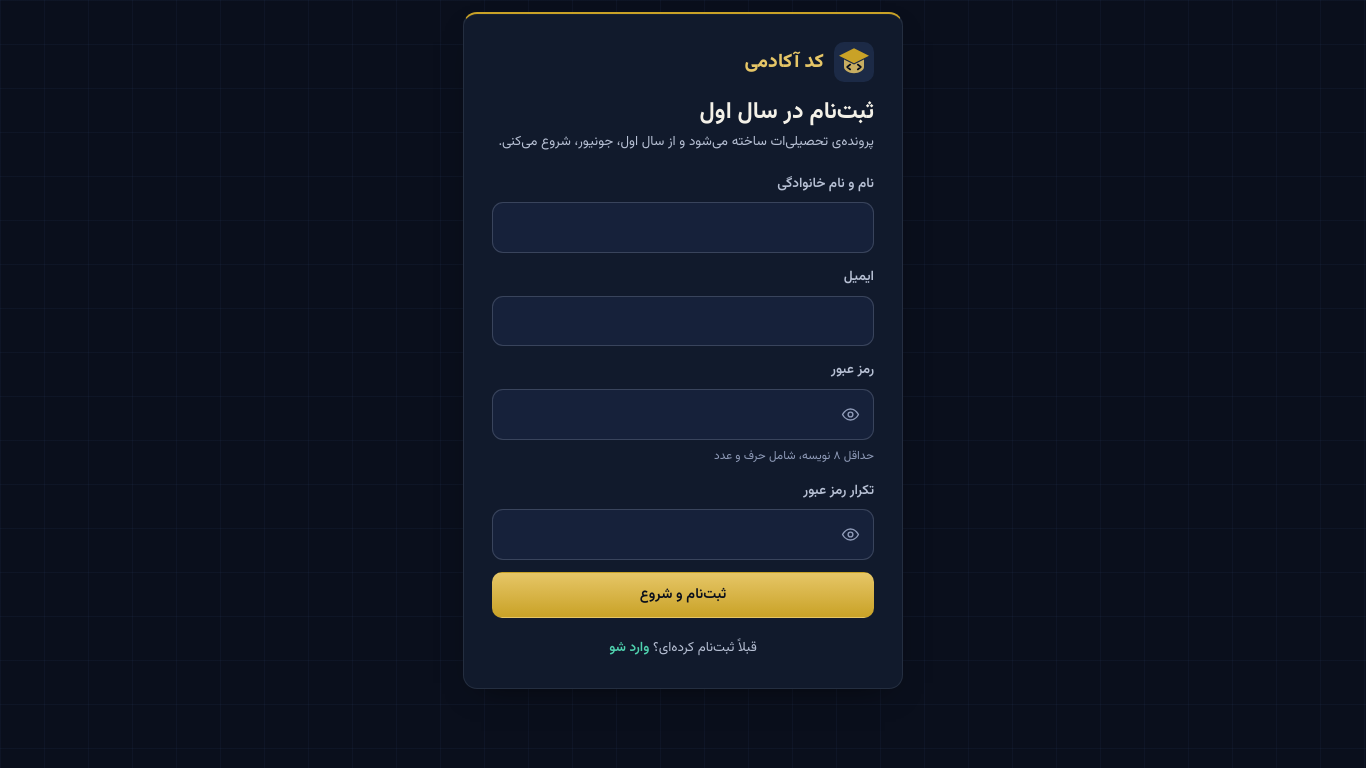
it: Authentication › validates matching passwords before registering
Step 1. Type "سارا محمدی" into the field labelled "نام و نام خانوادگی" → (683, 228), box [492, 202, 874, 253]
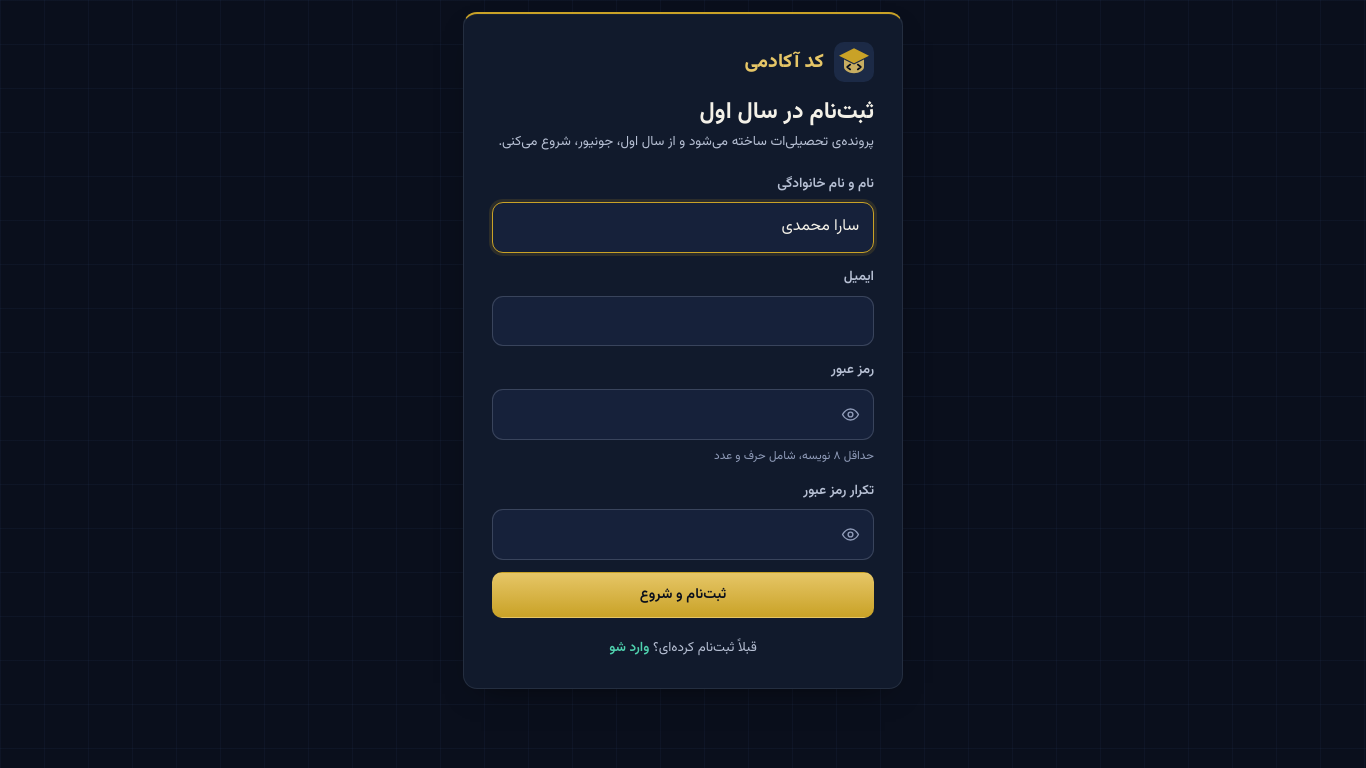
Step 2. Type "sara@example.ir" into the field labelled "ایمیل" → (683, 321), box [492, 296, 874, 346]
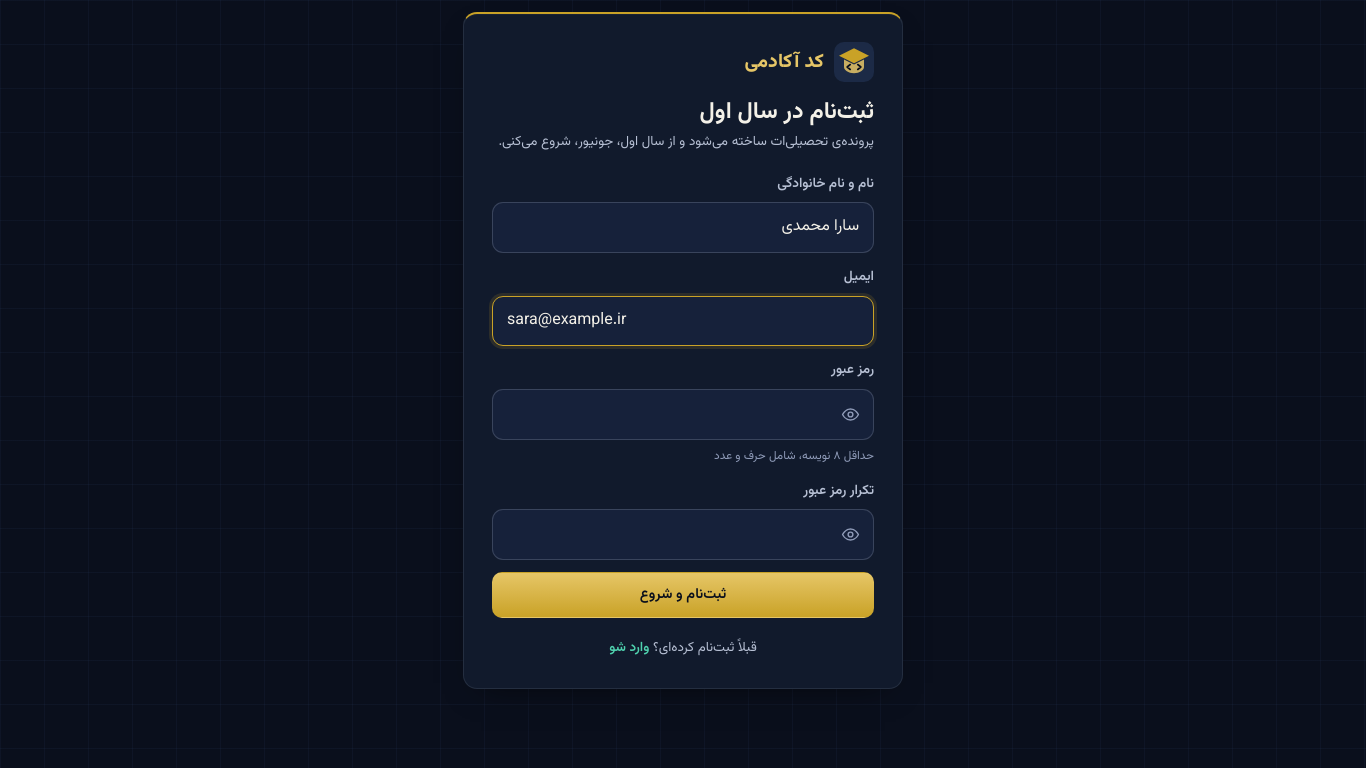
Step 3. Type "tehran1405" into the password field labelled "رمز عبور" → (683, 414), box [492, 389, 874, 440]
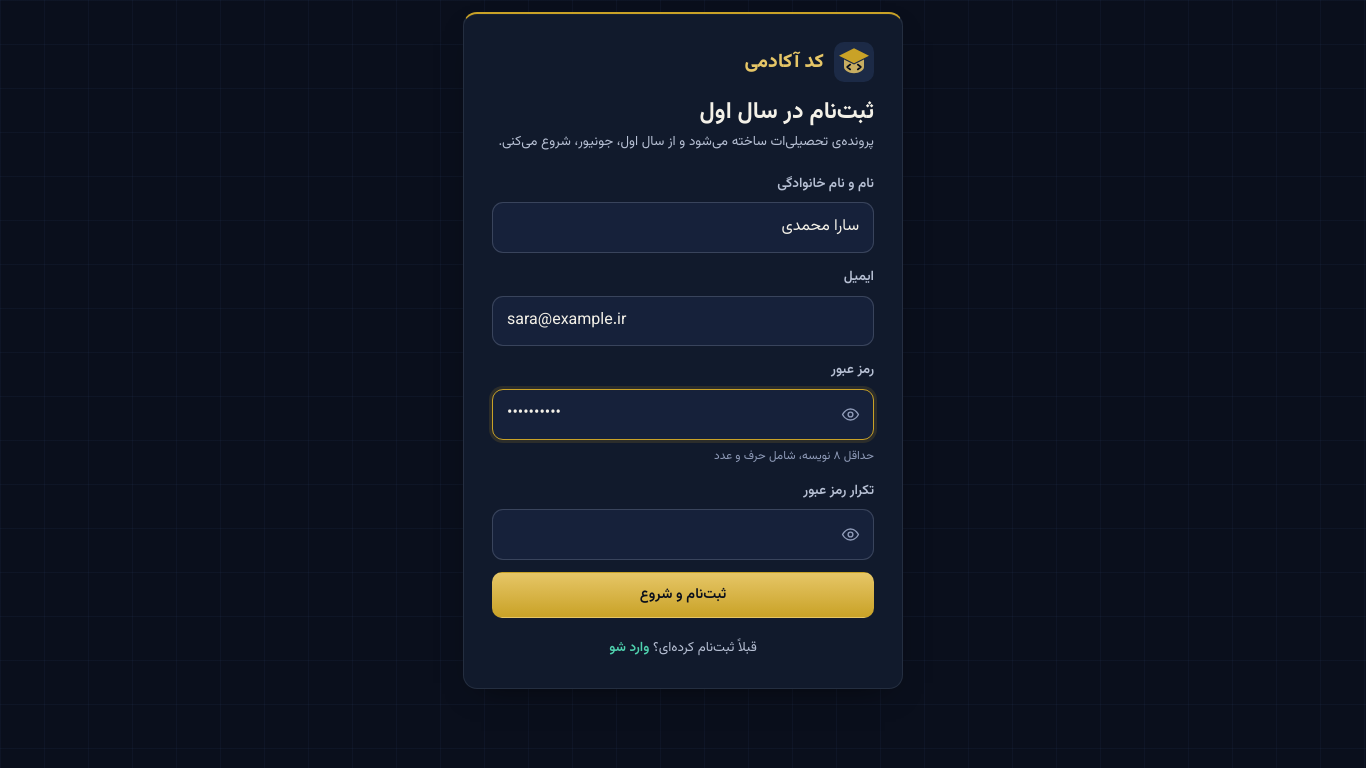
Step 4. Type "tehran1406" into the password field labelled "تکرار رمز عبور" → (683, 535), box [492, 509, 874, 560]
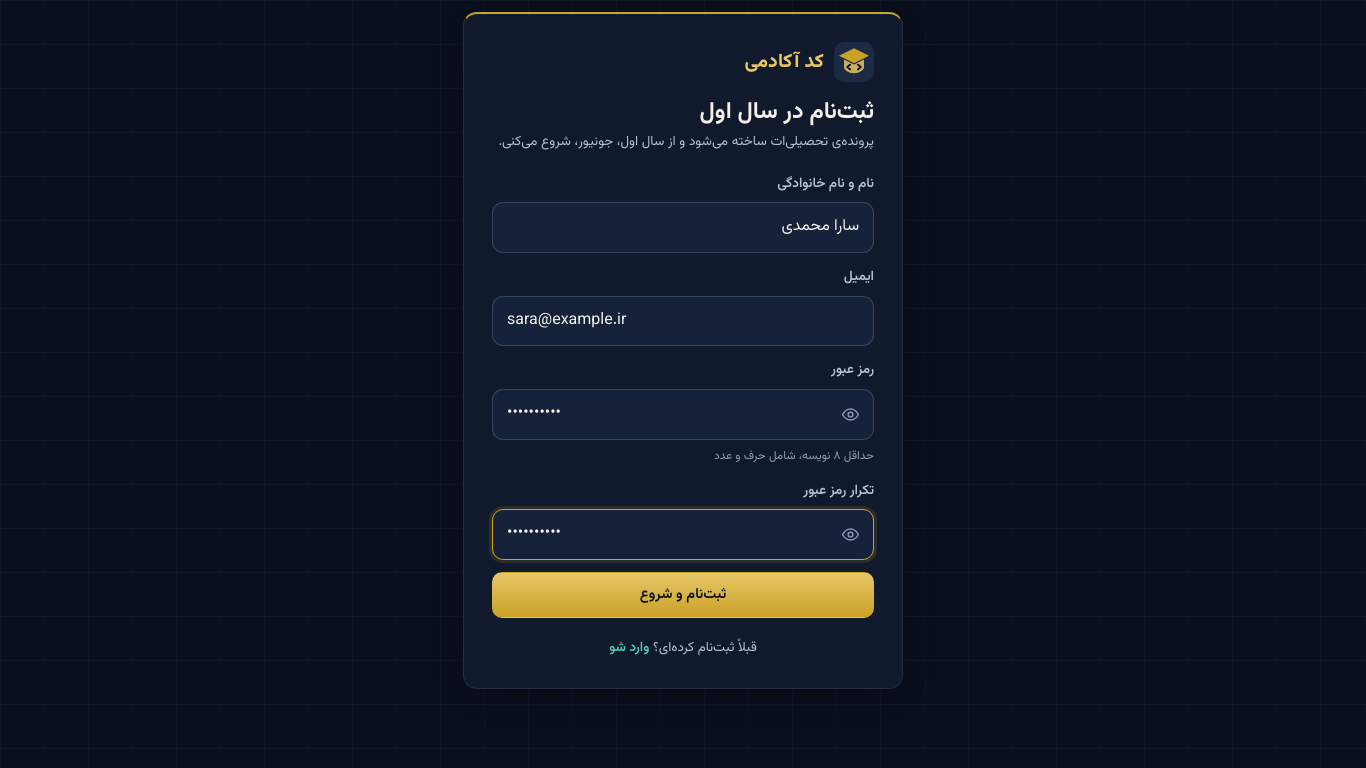
Step 5. Click the button "ثبت‌نام و شروع" → (683, 595), box [492, 572, 874, 618]
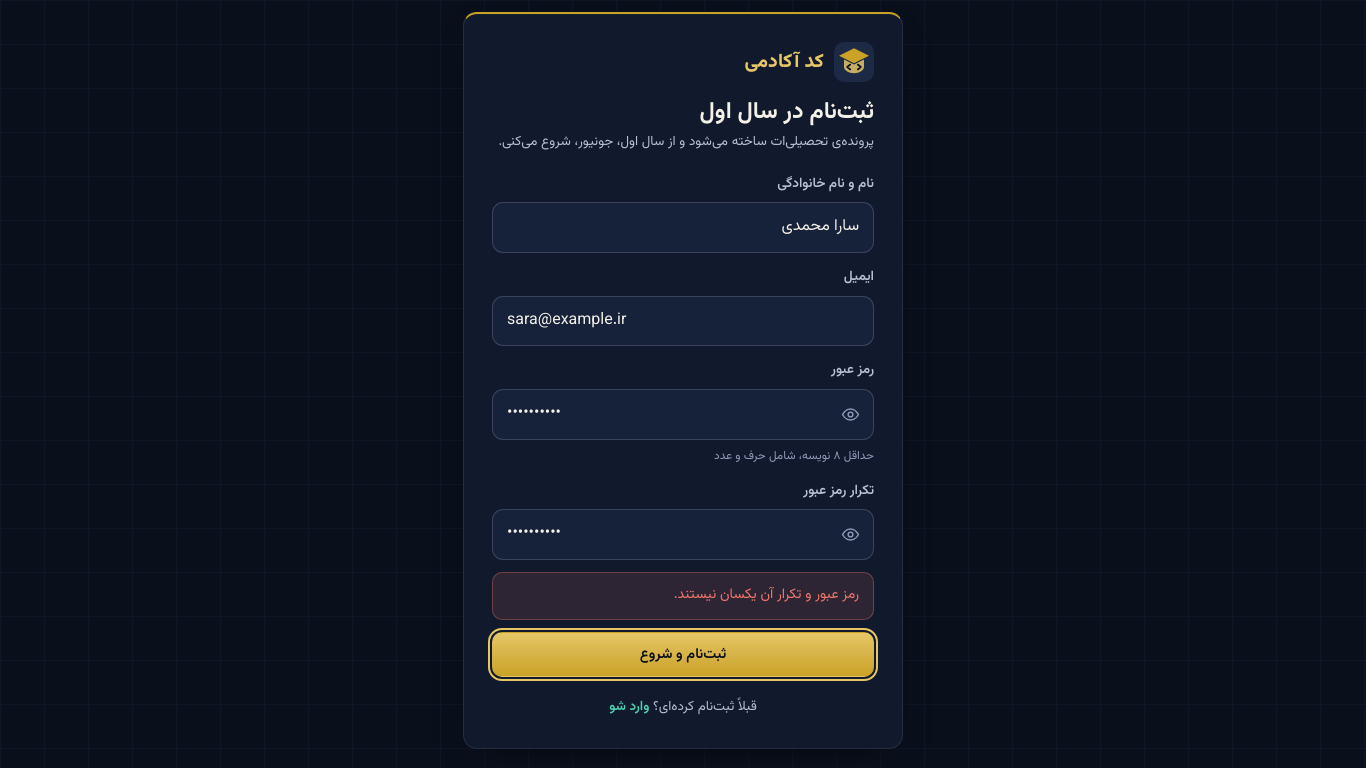
Check: the message shows "یکسان نیستند", box [674, 584, 859, 606]
